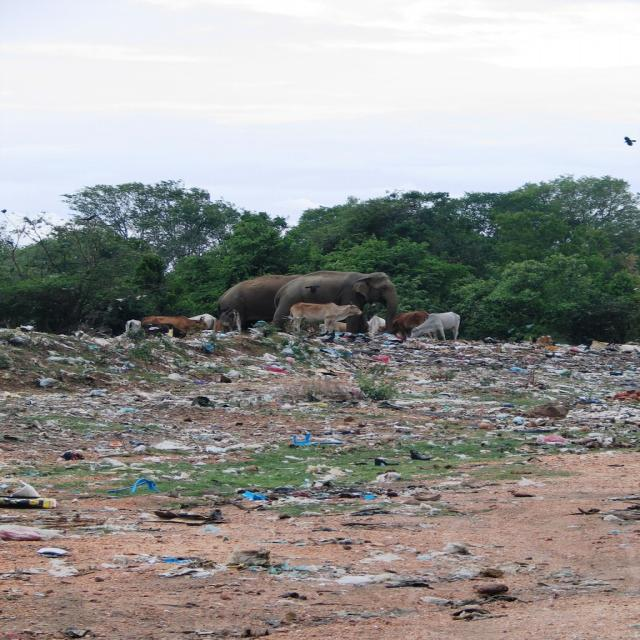elephant: (269, 268, 399, 328), (216, 270, 310, 334)
